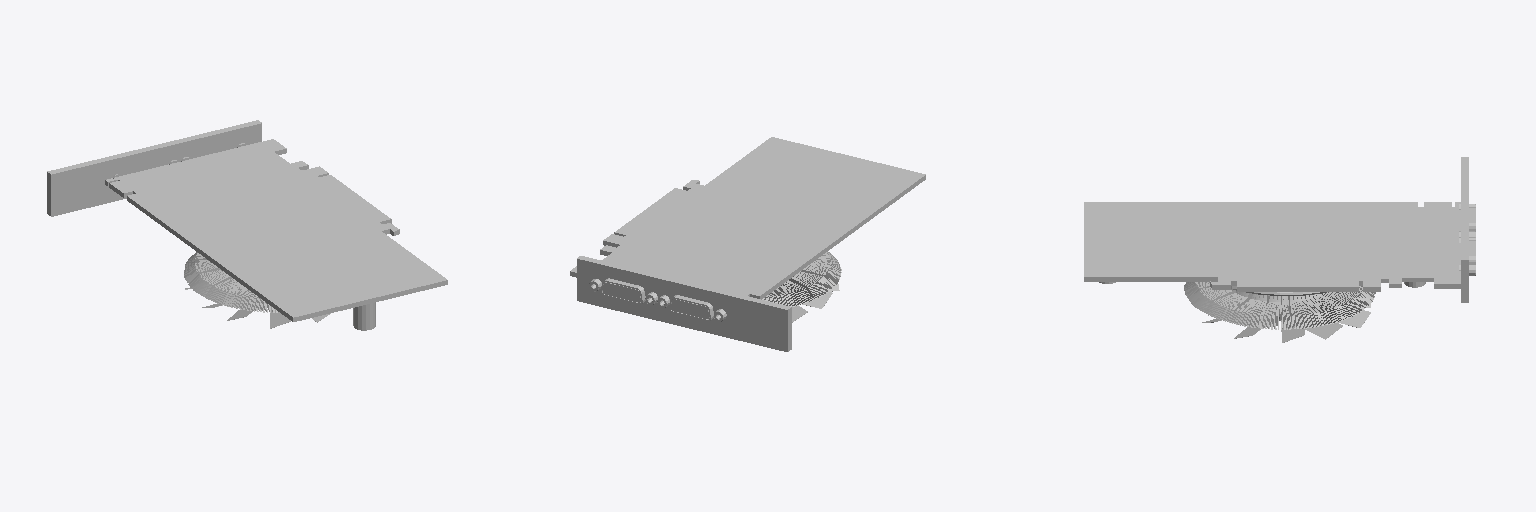
File: GPU.obj
3 views of the same model, side by side, from view 1: azimuth 30°, elevation 25°; view 2: azimuth 150°, elevation 25°; view 3: azimuth 270°, elevation 25° (orthographic).
Parts seen in each view (by area): view 1: Line040, Rectangle023, Obj3d66_562033_10_341, Obj3d66_562033_13_192; view 2: Line040, Rectangle023, Obj3d66_562033_10_341; view 3: Line040, Obj3d66_562033_10_341, Rectangle023, Obj3d66_562033_9_231.
Boxes of the visible parts, x1,y1,x2,y2 form: Line040: [105, 139, 447, 321]; Rectangle023: [47, 120, 261, 216]; Obj3d66_562033_10_341: [184, 252, 277, 312]; Obj3d66_562033_13_192: [353, 302, 375, 330]; Line040: [570, 137, 925, 299]; Rectangle023: [577, 256, 791, 351]; Obj3d66_562033_10_341: [762, 252, 841, 306]; Line040: [1084, 202, 1460, 291]; Obj3d66_562033_10_341: [1184, 282, 1375, 329]; Rectangle023: [1461, 157, 1468, 302]; Obj3d66_562033_9_231: [1202, 304, 1370, 342].
Bounding box in the file's own units: 16.41 × 5.91 × 24.35.